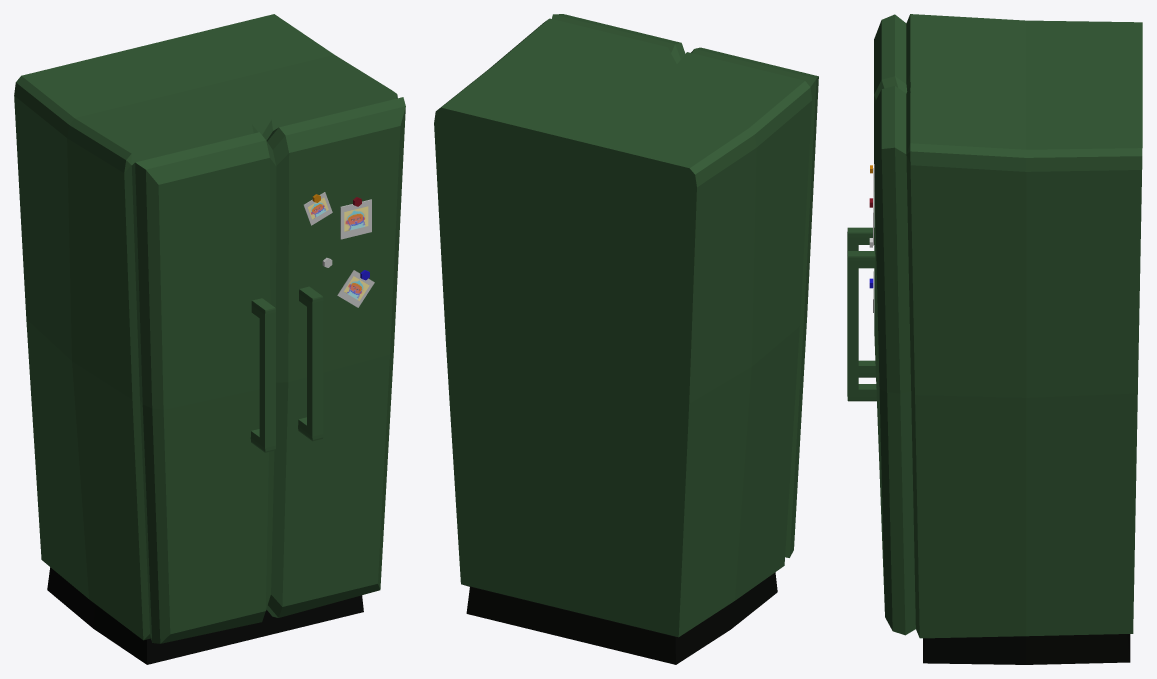
The model's file is kylskåp.glb.
3 views of the same model, side by side, from view 1: azimuth 30°, elevation 25°; view 2: azimuth 150°, elevation 25°; view 3: azimuth 270°, elevation 25° (orthographic). The views are drawn at different scales.
Parts seen in each view (by area): view 1: mesh_id6, mesh_id7, mesh_id8, mesh_id9; view 2: mesh_id6, mesh_id7; view 3: mesh_id6, mesh_id7.
Part boxes in pixels (x1=…): mesh_id6: x1=14, y1=14, x2=405, y2=643; mesh_id7: x1=47, y1=567, x2=363, y2=664; mesh_id8: x1=303, y1=192, x2=374, y2=307; mesh_id9: x1=308, y1=197, x2=369, y2=300; mesh_id6: x1=434, y1=14, x2=818, y2=637; mesh_id7: x1=464, y1=572, x2=777, y2=664; mesh_id6: x1=847, y1=14, x2=1142, y2=638; mesh_id7: x1=923, y1=634, x2=1130, y2=664.
Size of the model in its own units: 0.2831 by 0.512 by 0.2579.
Materials: 8 (8 with a texture image).
